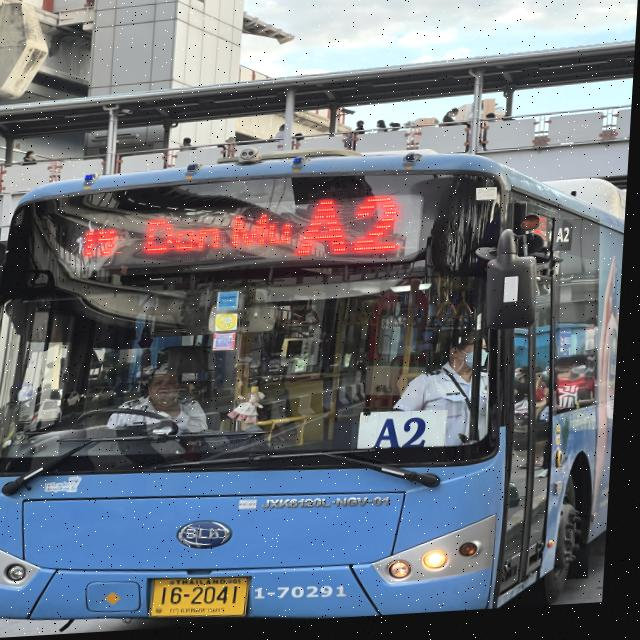BMTA-bus: (0, 134, 632, 640)
Bus-Line-Number: (291, 190, 422, 270)
Destination-Sign-Normal: (364, 412, 453, 458)
